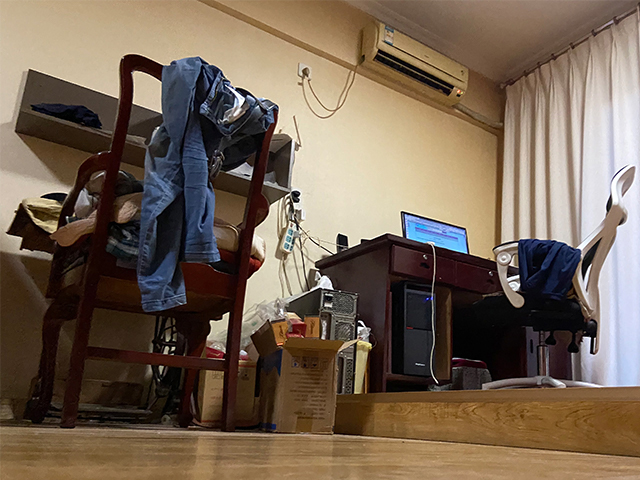curtain: (501, 5, 640, 385)
stool: (21, 53, 279, 434), (479, 164, 640, 388)
table: (316, 233, 543, 391)
